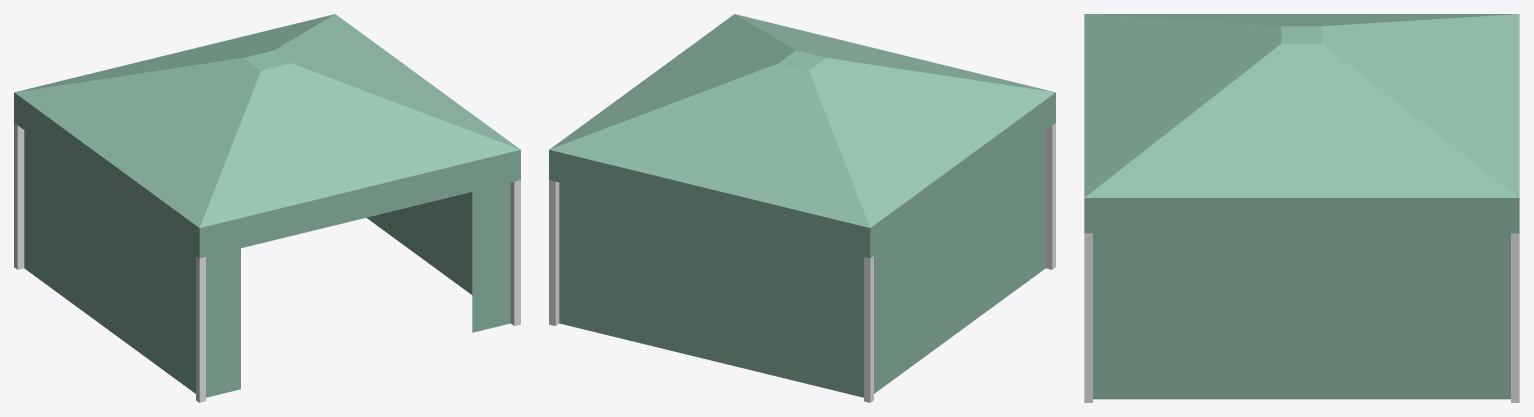
File: tentClosed.glb
The picture shows the model from 3 angles, left to right: view 1: azimuth 30°, elevation 25°; view 2: azimuth 150°, elevation 25°; view 3: azimuth 270°, elevation 25°; orthographic projection. The views are drawn at different scales.
Parts seen in each view (by area): view 1: tentClosed(Clone); view 2: tentClosed(Clone); view 3: tentClosed(Clone).
Boxes of the visible parts, left/top/right/bottom form: tentClosed(Clone): left=14, top=14, right=520, bottom=402; tentClosed(Clone): left=549, top=14, right=1055, bottom=402; tentClosed(Clone): left=1084, top=14, right=1519, bottom=402.
Bounding box in the file's own units: 1 × 0.7 × 1.
